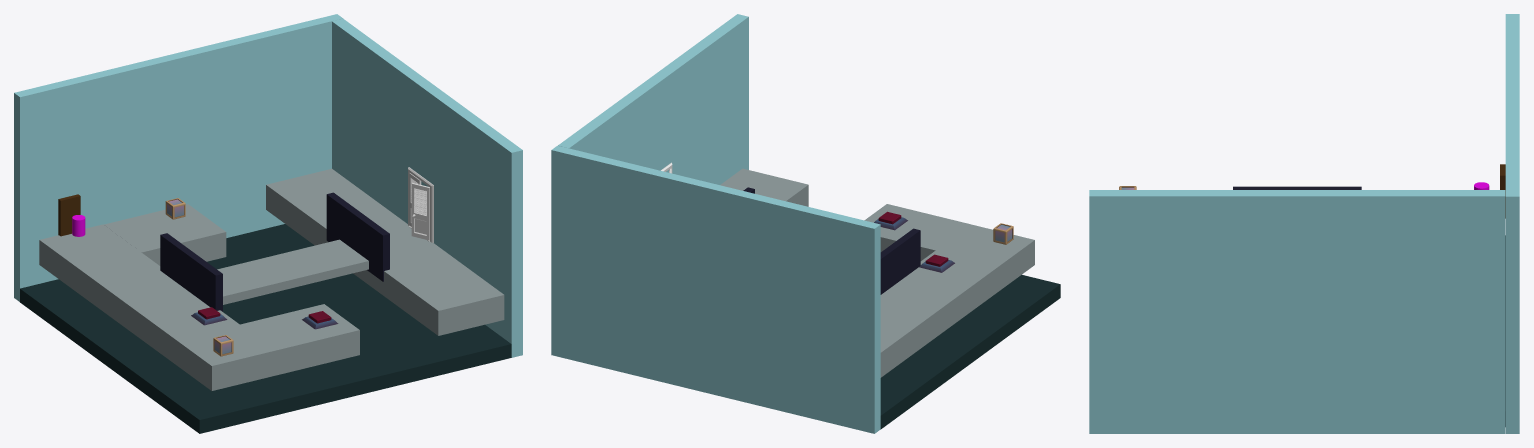
Rendered from Level[PadsNWalls]VOL.fbx.
3 views of the same model, side by side, from view 1: azimuth 30°, elevation 25°; view 2: azimuth 150°, elevation 25°; view 3: azimuth 270°, elevation 25° (orthographic). The views are drawn at different scales.
Parts seen in each view (by area): view 1: wall2, voidWall, wall1, platform4, platform1, bridge, platform3, platform, drawWall2, drawWall, door, entrance; view 2: wall2, wall1, platform4, voidWall, platform3, drawWall, platform1; view 3: wall1, wall2, drawWall.
Boxes of the visible parts, <box> form: wall2: <box>14,14,342,301</box>; voidWall: <box>20,224,511,433</box>; wall1: <box>332,18,522,357</box>; platform4: <box>39,224,275,390</box>; platform1: <box>266,168,504,335</box>; bridge: <box>217,239,368,304</box>; platform3: <box>240,304,359,375</box>; platform: <box>104,204,226,265</box>; drawWall2: <box>326,192,389,281</box>; drawWall: <box>160,233,222,311</box>; door: <box>408,167,433,242</box>; entrance: <box>58,194,80,236</box>; wall2: <box>551,145,880,433</box>; wall1: <box>558,14,748,184</box>; platform4: <box>880,224,1034,377</box>; voidWall: <box>880,275,1060,429</box>; platform3: <box>864,204,970,260</box>; drawWall: <box>880,228,920,294</box>; platform1: <box>720,168,808,206</box>; wall1: <box>1089,190,1505,433</box>; wall2: <box>1505,14,1519,433</box>; drawWall: <box>1233,186,1361,189</box>.
Bounding box in the file's own units: 24.68 × 14.96 × 24.58.
